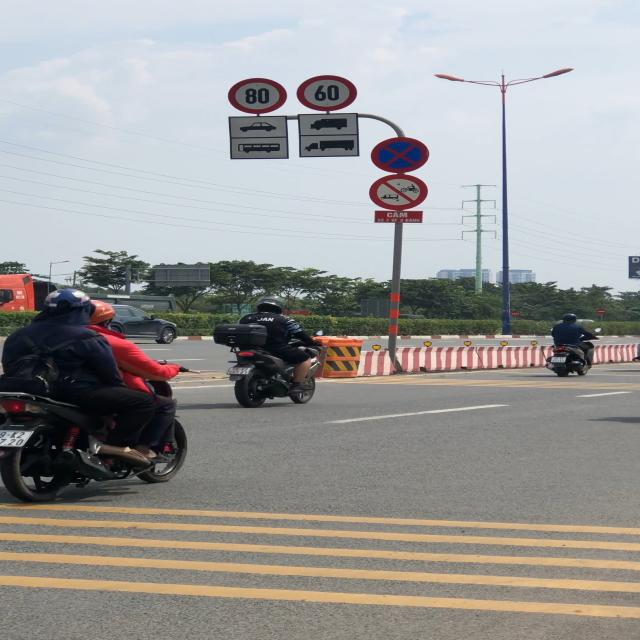Bien bao cam dung xe va do xe: (370, 135, 430, 174)
Bien bao toc do toi da cho phep: (225, 77, 290, 116), (294, 74, 360, 112)
